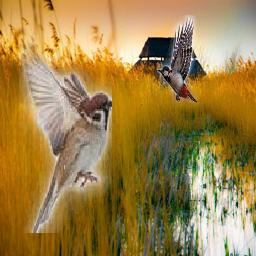Sparrow: (20, 35, 113, 233)
Woodpecker: (157, 15, 197, 103)
